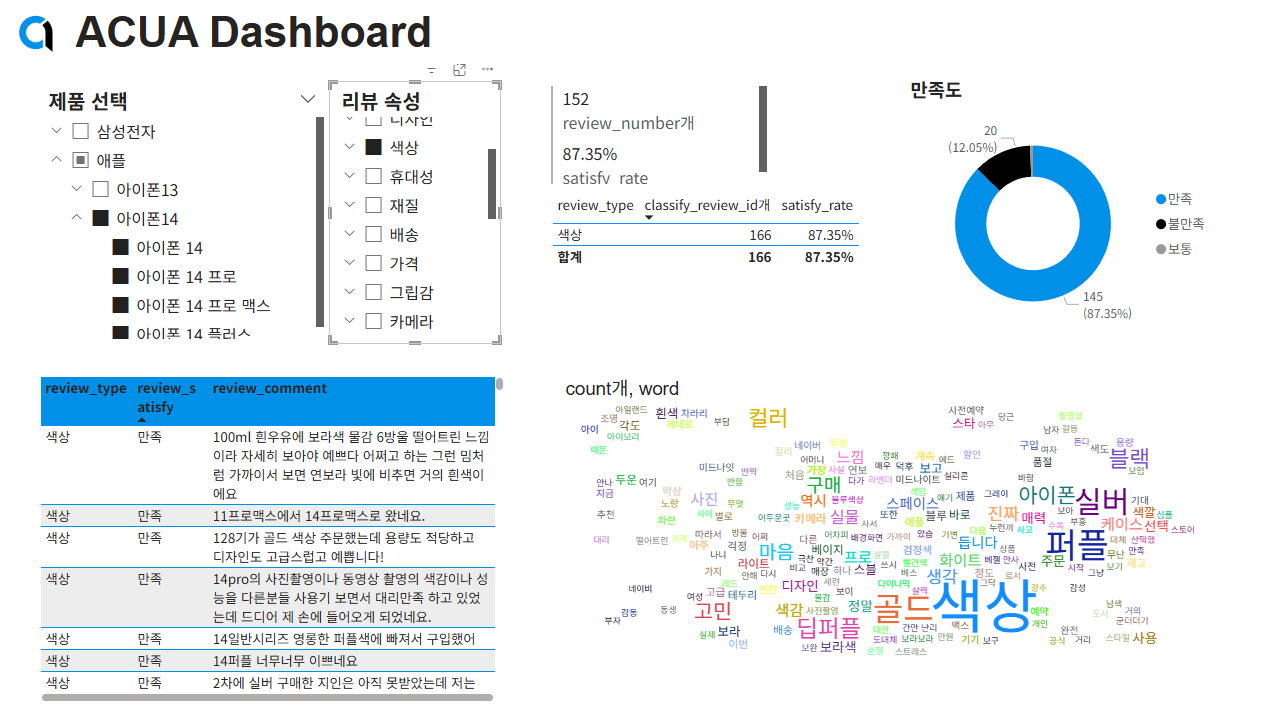

The page's visual inventory and layout, read from the dashboard file:
{"tool":"powerbi","page":{"name":"1 페이지","canvas":[1280,720],"ordinal":0},"visuals":[{"type":"slicer","fields":{"Values":["models.브랜드","models.시리즈","models.제품명(용량x)"]},"box":[35.6,81.1,293.3,263.3],"z":0},{"type":"slicer","fields":{"Values":["gpt_result.review_type","gpt_result.classify_review_id"]},"box":[328.7,81.3,172.5,263.2],"z":1000},{"type":"WordCloud1447959067750","fields":{"Category":["wordset.word"],"Values":["CountNonNull(wordset.count)"]},"box":[560.8,372.6,719,334.1],"z":2000},{"type":"donutChart","title":"만족도","fields":{"Category":["gpt_result.review_satisfy"],"Y":["CountNonNull(gpt_result.classify_review_id)"]},"box":[906.3,74.9,312.9,276.5],"z":3000},{"type":"tableEx","fields":{"Values":["gpt_result.review_type","gpt_result.review_satisfy","gpt_result.review_comment"]},"box":[35.5,372.4,473.5,334.3],"z":4000},{"type":"image","box":[0,0,70.9,65.1],"z":5000},{"type":"textbox","box":[70.7,2.9,386.4,62.1],"z":6000},{"type":"multiRowCard","fields":{"Values":["gpt_result.review_number","gpt_result.satisfy_rate"]},"box":[546.2,80.7,212.8,108.2],"z":7000},{"type":"tableEx","fields":{"Values":["gpt_result.review_type","gpt_result.classify_review_id","gpt_result.satisfy_rate"]},"box":[546.6,188.9,296.7,155.6],"z":8000}]}

Visuals, with their boxes in screenshot pixels (x1, y1, x2, y2), scaled from the page's 1280x720 canvas onto the 1280x720 screenshot:
slicer - models.브랜드 x models.시리즈: [36, 81, 329, 344]
slicer - gpt_result.review_type x gpt_result.classify_review_id: [329, 81, 501, 344]
WordCloud1447959067750 - wordset.word x CountNonNull(wordset.count): [561, 373, 1279, 707]
"만족도" donutChart: [906, 75, 1219, 351]
tableEx - gpt_result.review_type x gpt_result.review_satisfy: [36, 372, 509, 707]
image: [0, 0, 71, 65]
textbox: [71, 3, 457, 65]
multiRowCard - gpt_result.review_number x gpt_result.satisfy_rate: [546, 81, 759, 189]
tableEx - gpt_result.review_type x gpt_result.classify_review_id: [547, 189, 843, 344]
